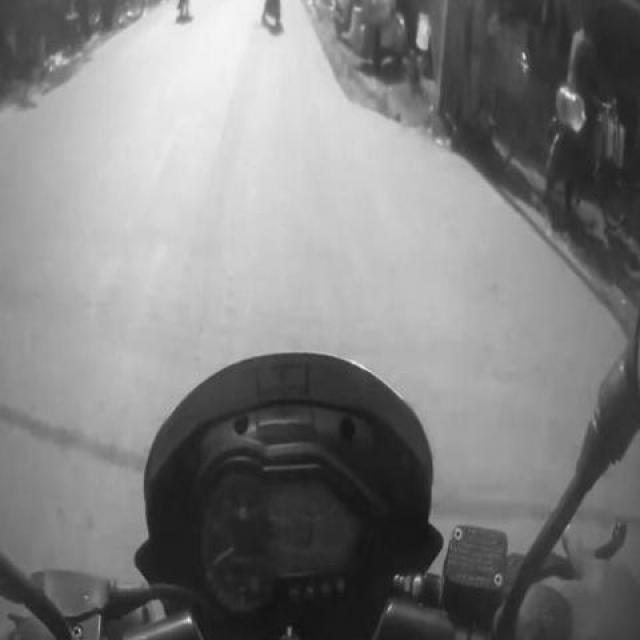Unmarked Bump: (0, 366, 145, 497), (437, 486, 550, 524), (574, 500, 640, 536)
